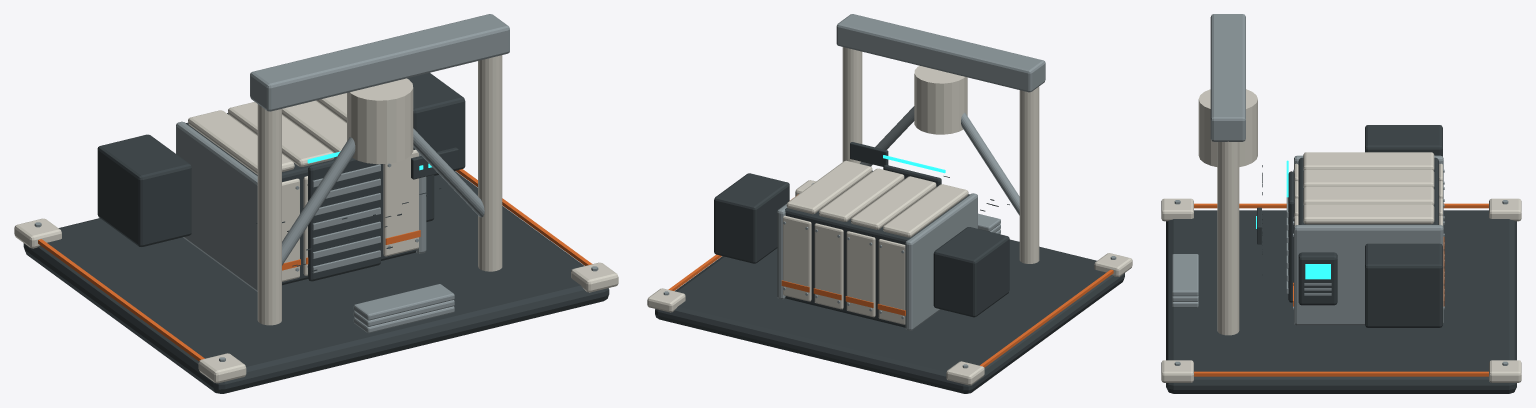
File: SM_UraniumMine_Body.fbx
3 renders of one model, left to right at view 1: azimuth 30°, elevation 25°; view 2: azimuth 150°, elevation 25°; view 3: azimuth 270°, elevation 25°, orthographic. The views are drawn at different scales.
Parts seen in each view (by area): view 1: SM_UraniumMine_Body; view 2: SM_UraniumMine_Body; view 3: SM_UraniumMine_Body.
Boxes of the visible parts, bbox=[...] form: SM_UraniumMine_Body: bbox=[14, 14, 618, 393]; SM_UraniumMine_Body: bbox=[647, 14, 1132, 393]; SM_UraniumMine_Body: bbox=[1161, 14, 1521, 393].
Bounding box in the file's own units: 532 × 462 × 347.
